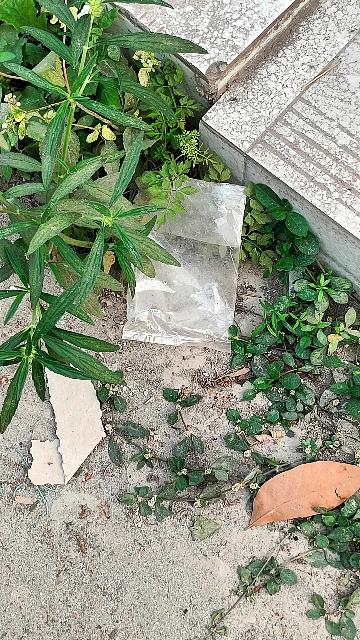polythene: (110, 176, 251, 352)
